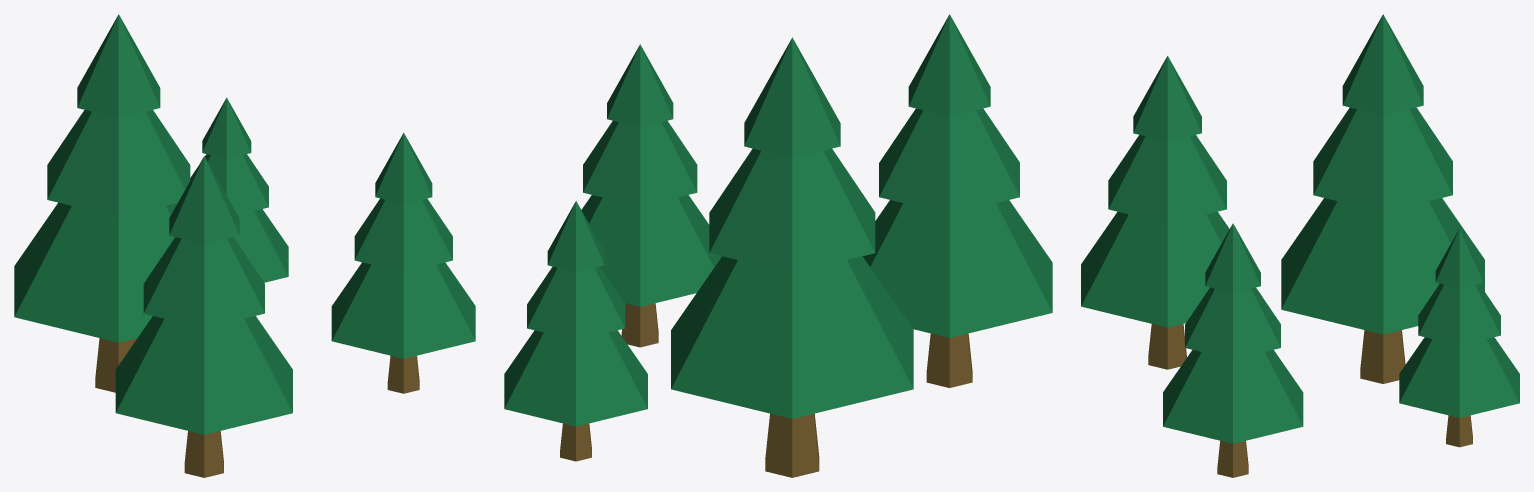
File: SM_Trees.fbx
3 views of the same model, side by side, from view 1: azimuth 30°, elevation 25°; view 2: azimuth 150°, elevation 25°; view 3: azimuth 270°, elevation 25° (orthographic). The views are drawn at different scales.
Parts seen in each view (by area): view 1: Pine1; view 2: Pine1; view 3: Pine1.
Boxes of the visible parts, box(x1,y1,x2,y2) form: Pine1: box(14, 14, 475, 477); Pine1: box(504, 14, 1052, 477); Pine1: box(1081, 14, 1519, 477).
Bounding box in the file's own units: 172 × 154 × 171.
